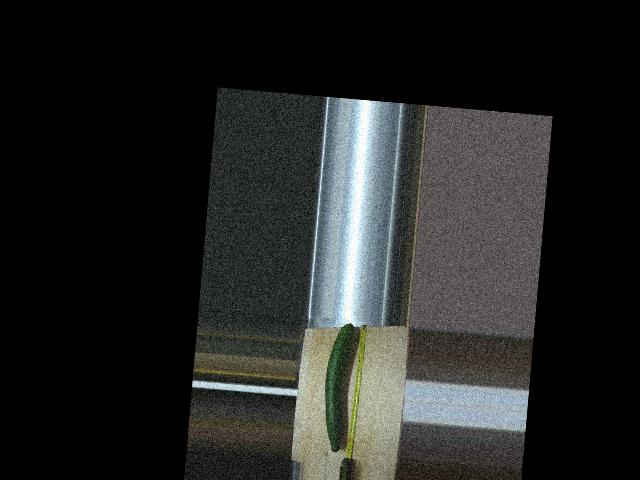cucumber: (319, 321, 356, 453)
